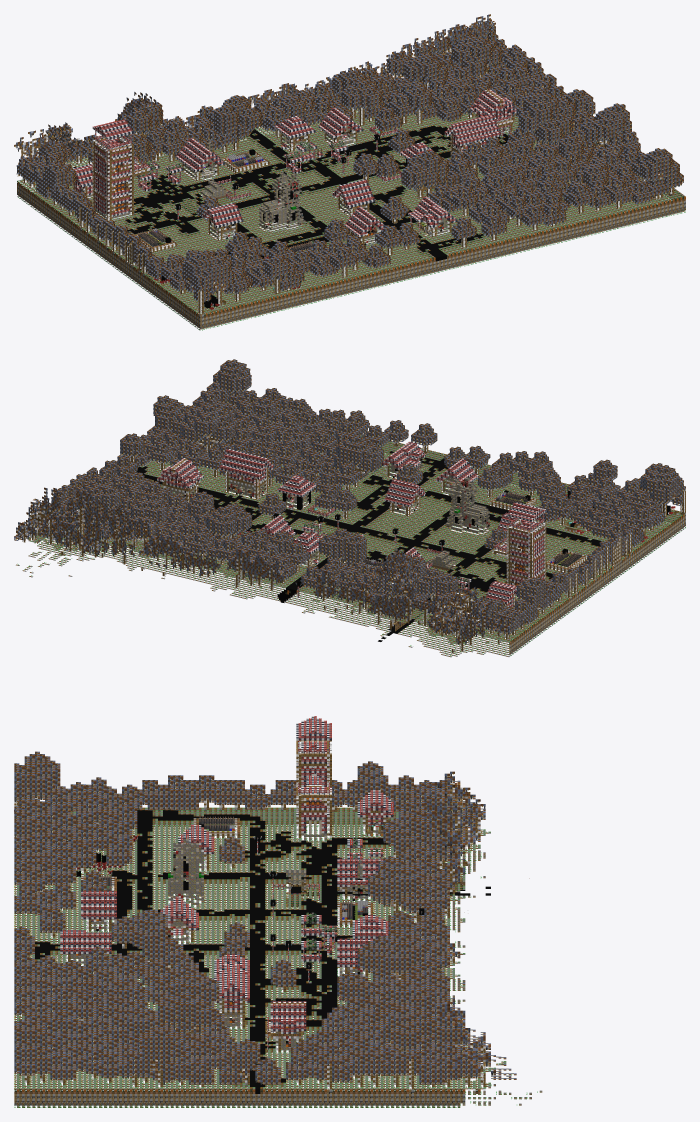
Rendered from startv2.fbx.
3 views of the same model, one above another, from view 1: azimuth 30°, elevation 25°; view 2: azimuth 150°, elevation 25°; view 3: azimuth 270°, elevation 25° (orthographic). The views are drawn at different scales.
Visible parts, largest first — view 1: Pavlov_Vr_Map_Makeing_Test__-233_0_444_to_-104_39_584; view 2: Pavlov_Vr_Map_Makeing_Test__-233_0_444_to_-104_39_584; view 3: Pavlov_Vr_Map_Makeing_Test__-233_0_444_to_-104_39_584.
Boxes of the visible parts, box(x1,y1,x2,y2) form: Pavlov_Vr_Map_Makeing_Test__-233_0_444_to_-104_39_584: box(14, 14, 685, 330); Pavlov_Vr_Map_Makeing_Test__-233_0_444_to_-104_39_584: box(14, 359, 685, 657); Pavlov_Vr_Map_Makeing_Test__-233_0_444_to_-104_39_584: box(14, 716, 542, 1107).
Bounding box in the file's own units: 465 × 96.43 × 468.
